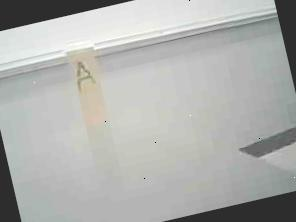Bottle A: (60, 32, 126, 140)
